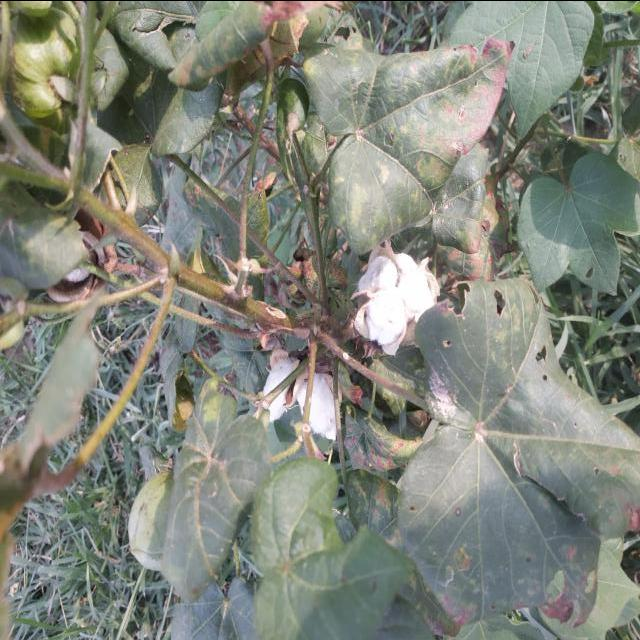Early Boll: (126, 464, 180, 572)
Matured Cotton Boll: (352, 242, 443, 348), (256, 350, 344, 444)
